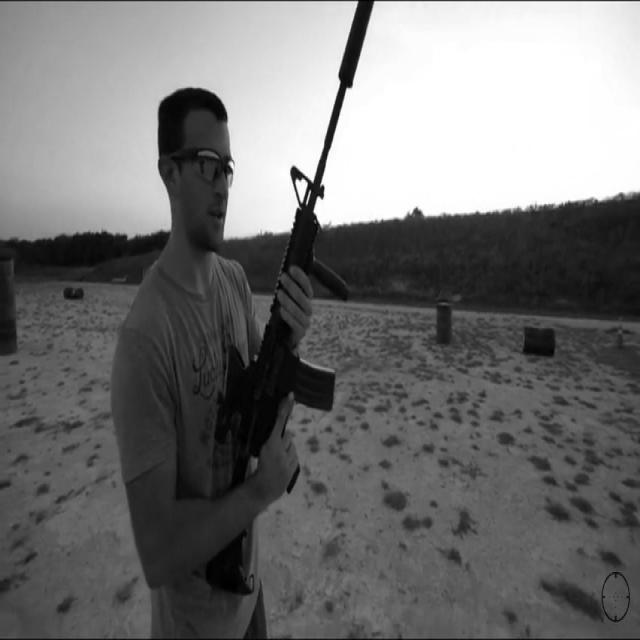Sniper: (192, 0, 424, 640)
